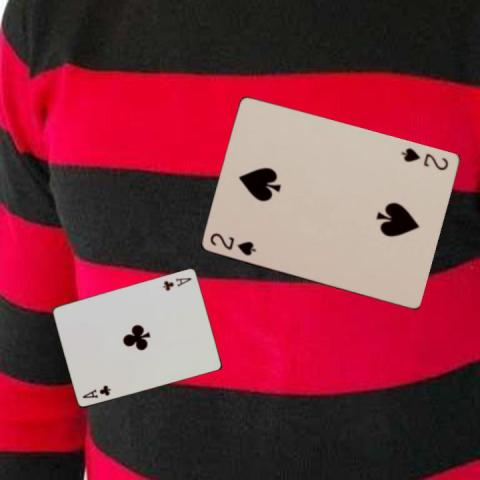2s: (398, 145, 449, 172), (207, 230, 257, 257)
Ac: (79, 382, 112, 399), (160, 275, 193, 291)
